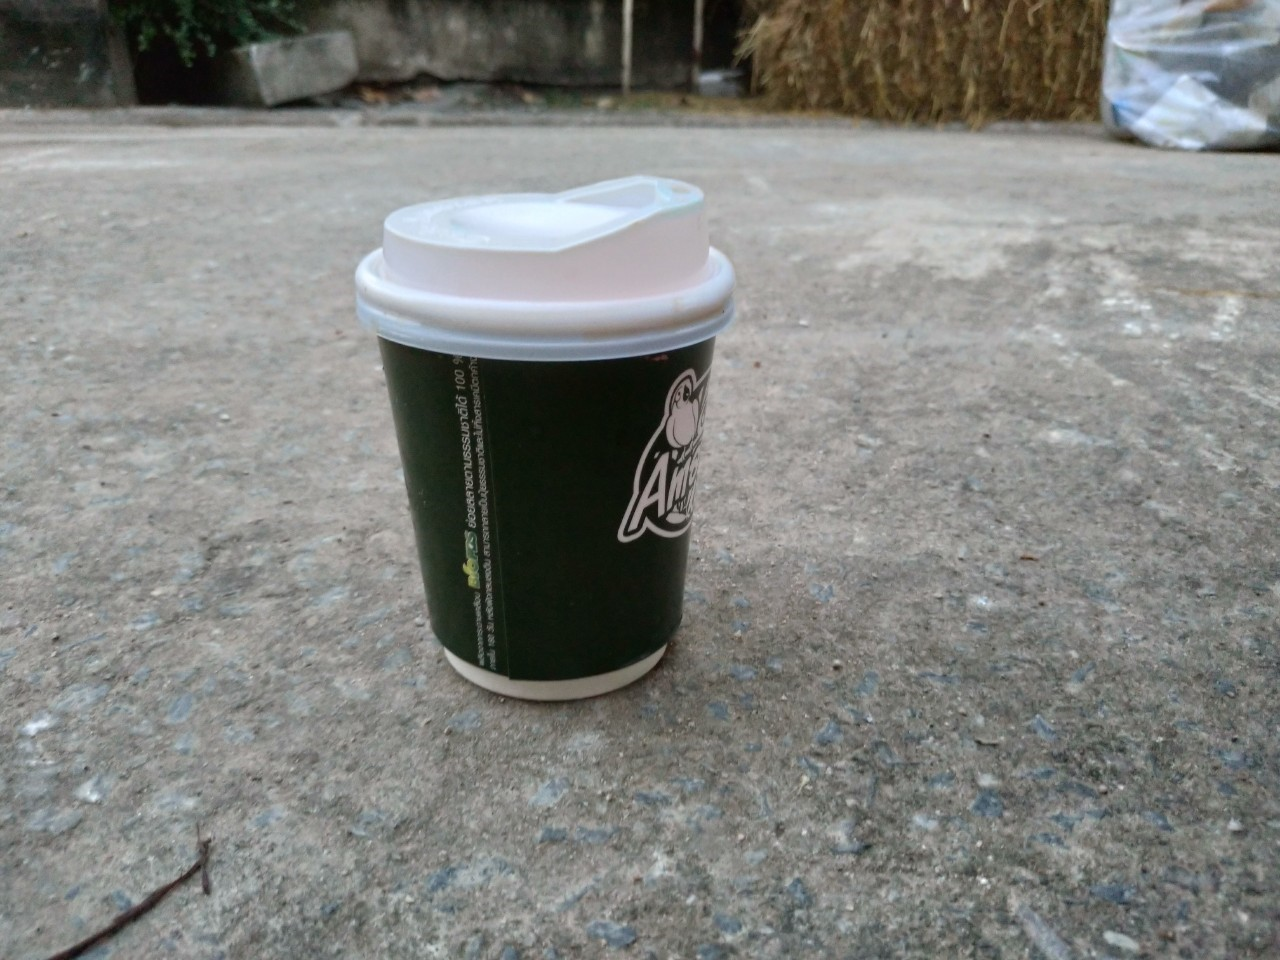PaperCup: (332, 171, 754, 703)
